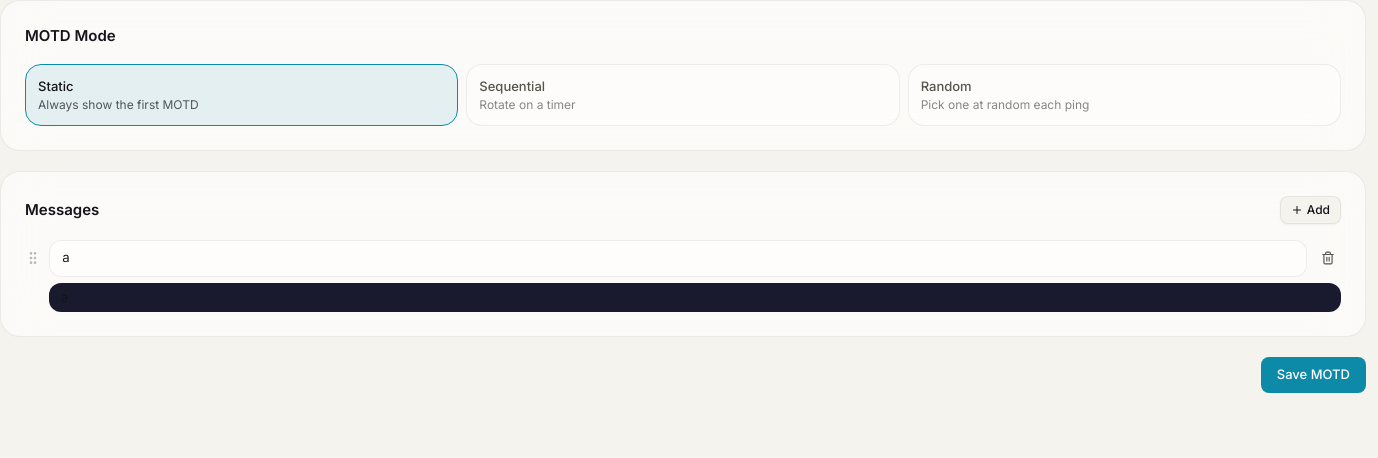
Test case: MotdEditor › adds and removes message entries
Click the button "Add": {"x": 1310, "y": 210} [1280, 196, 1341, 224]
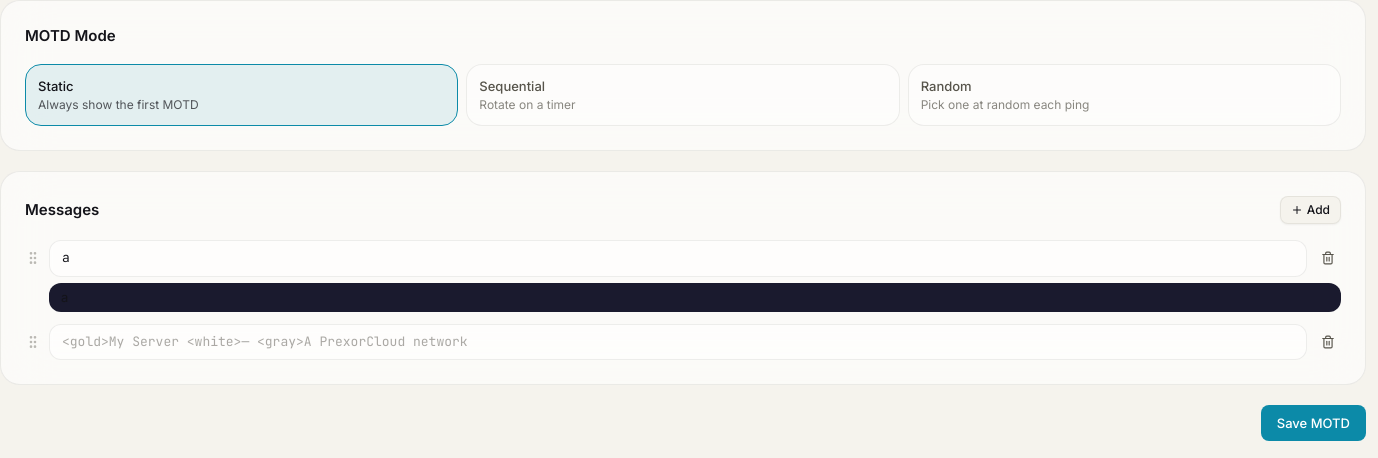
Expected: the number of fields is 2, [49, 240, 1307, 277]; [49, 324, 1307, 360]
